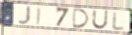7: (55, 7, 71, 28)
D: (73, 8, 90, 29)
I: (36, 6, 42, 27)
J: (17, 6, 32, 26)
L: (112, 10, 126, 31)
U: (91, 9, 109, 30)
